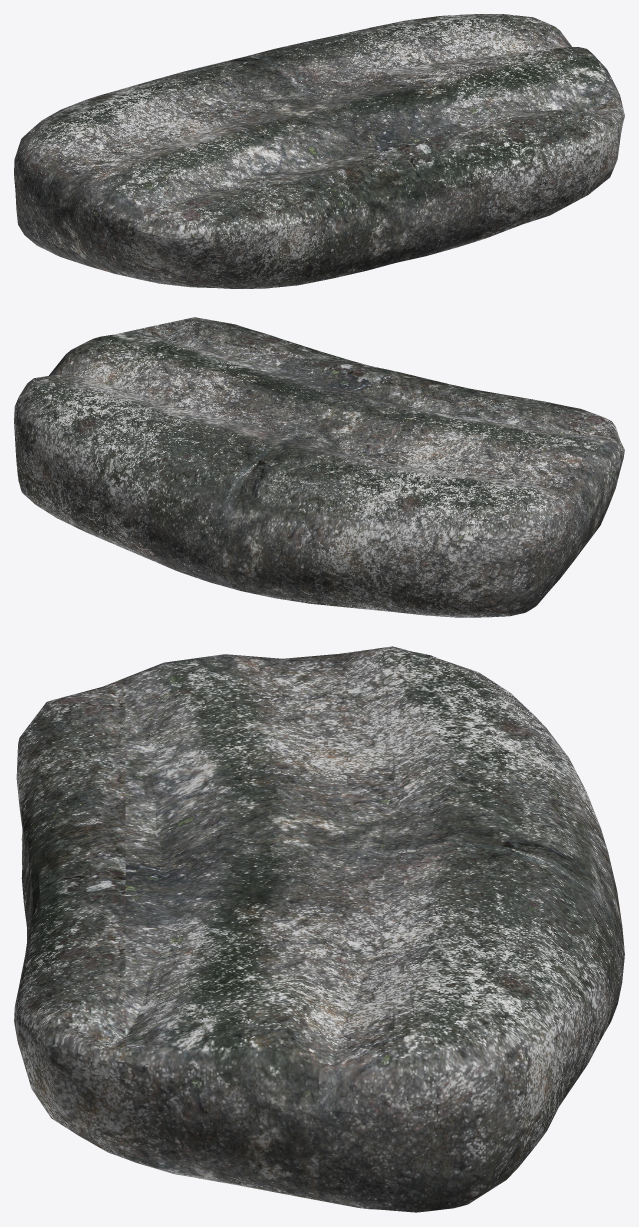
Rendered from meat.fbx.
3 renders of one model, top to bottom at view 1: azimuth 30°, elevation 25°; view 2: azimuth 150°, elevation 25°; view 3: azimuth 270°, elevation 25°, orthographic. The views are drawn at different scales.
Visible parts, largest first — view 1: PolySphere; view 2: PolySphere; view 3: PolySphere.
Boxes of the visible parts, bbox=[...] form: PolySphere: bbox=[14, 14, 624, 288]; PolySphere: bbox=[14, 317, 624, 617]; PolySphere: bbox=[14, 646, 624, 1212].
Bounding box in the file's own units: 26.08 × 5.94 × 15.75.
